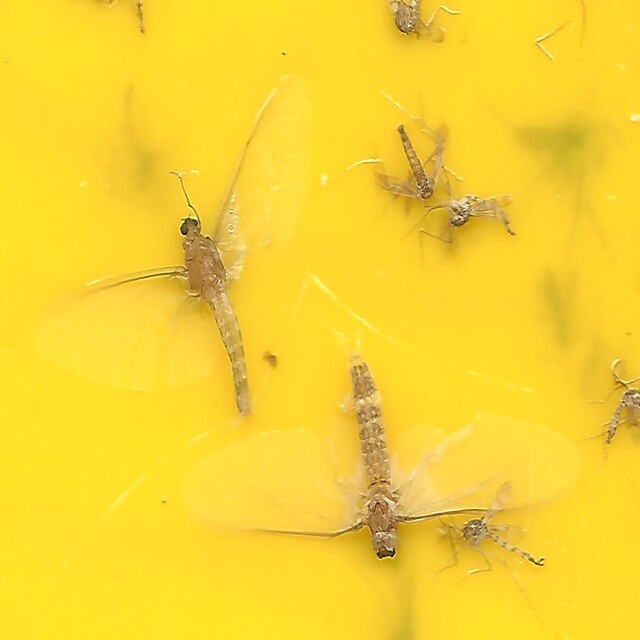Ephemeroptera: (53, 70, 307, 422), (202, 349, 587, 561)
Nematocera: (454, 479, 546, 570)
